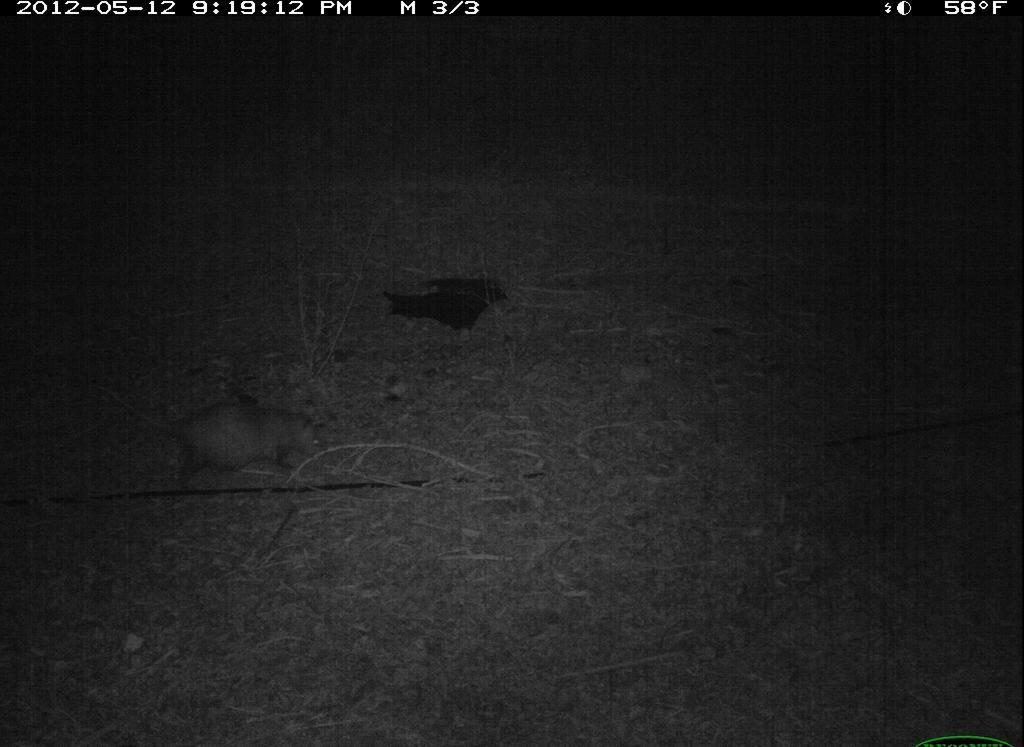opossum: (136, 377, 333, 492)
